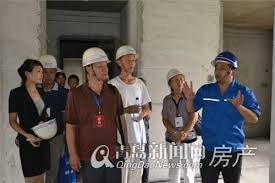blue: (212, 51, 239, 81)
none: (18, 58, 42, 86), (54, 69, 66, 88), (67, 74, 79, 89)
white: (81, 45, 110, 82), (115, 44, 138, 74), (38, 54, 57, 85), (165, 67, 185, 92)
